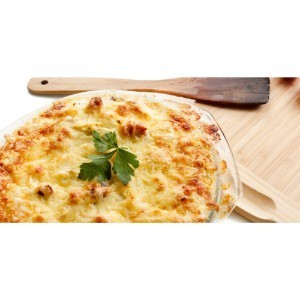cheese_brain food: (31, 136, 202, 213)
